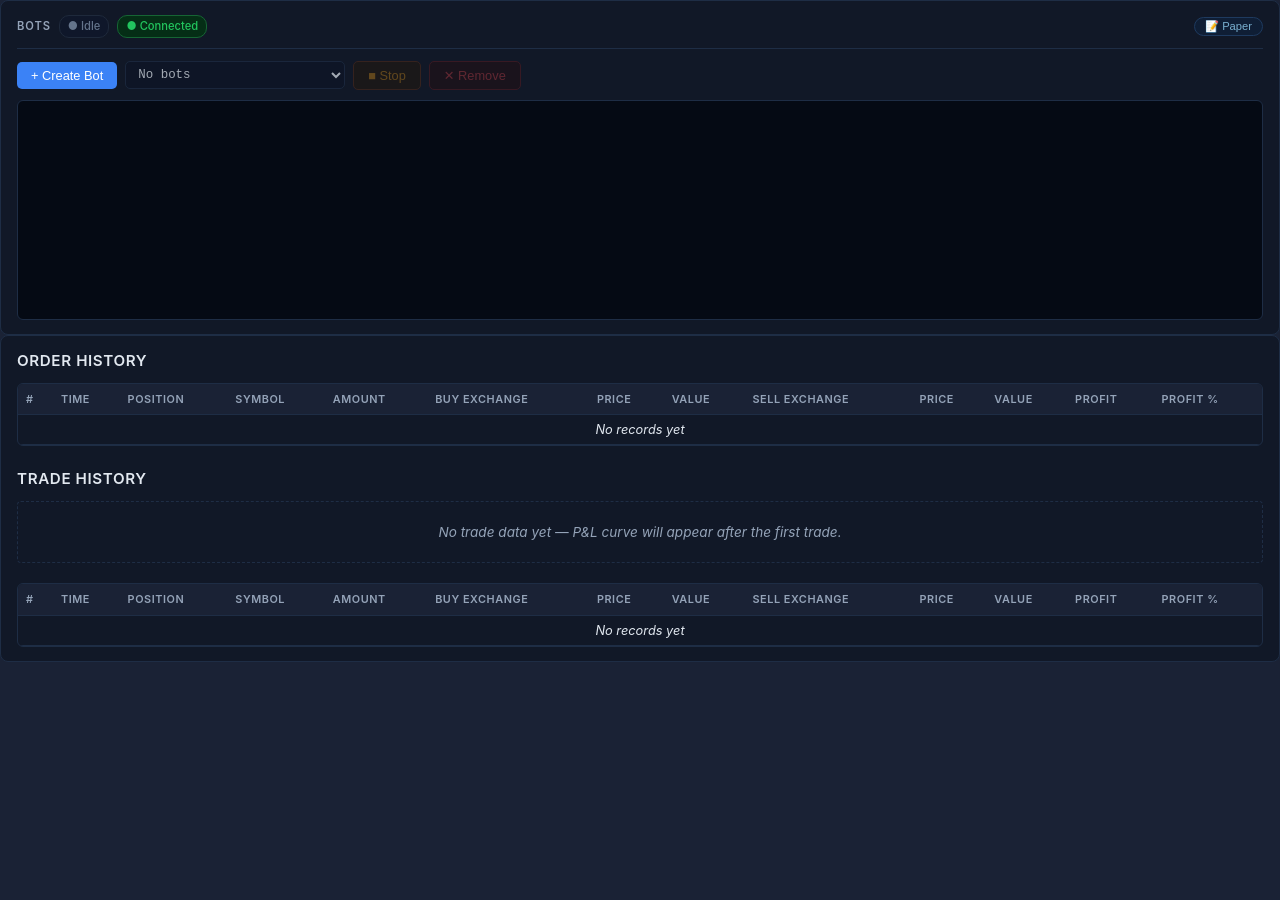
it: Bots — live trading modal › shows live confirm modal when switching paper → live
Click the button with aria-label "Switch to live trading".
click(1229, 26)  # box [1194,17,1263,36]
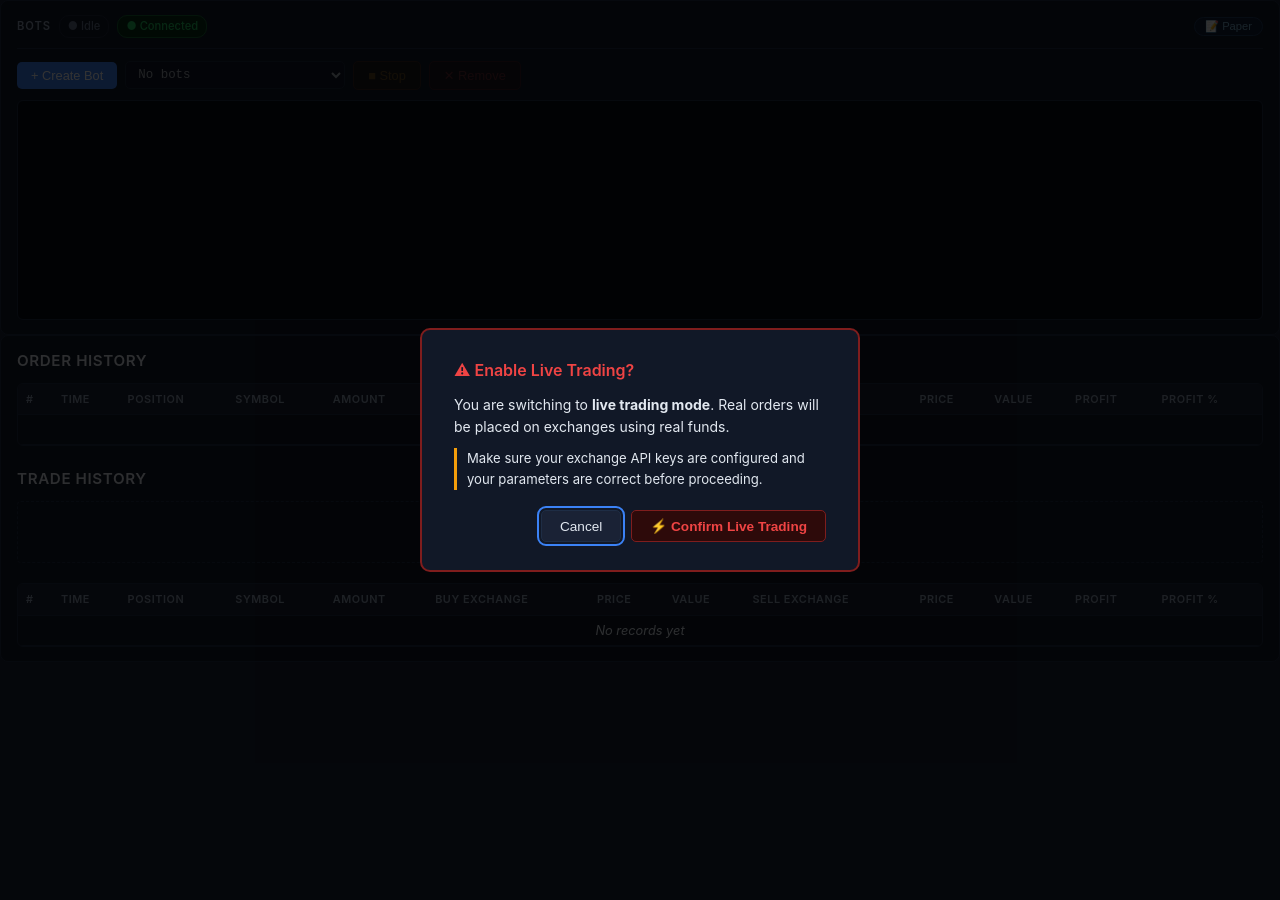
expect the dialog is shown: met
expect the heading "⚠ Enable Live Trading?" is shown: met, box [454,360,634,380]
